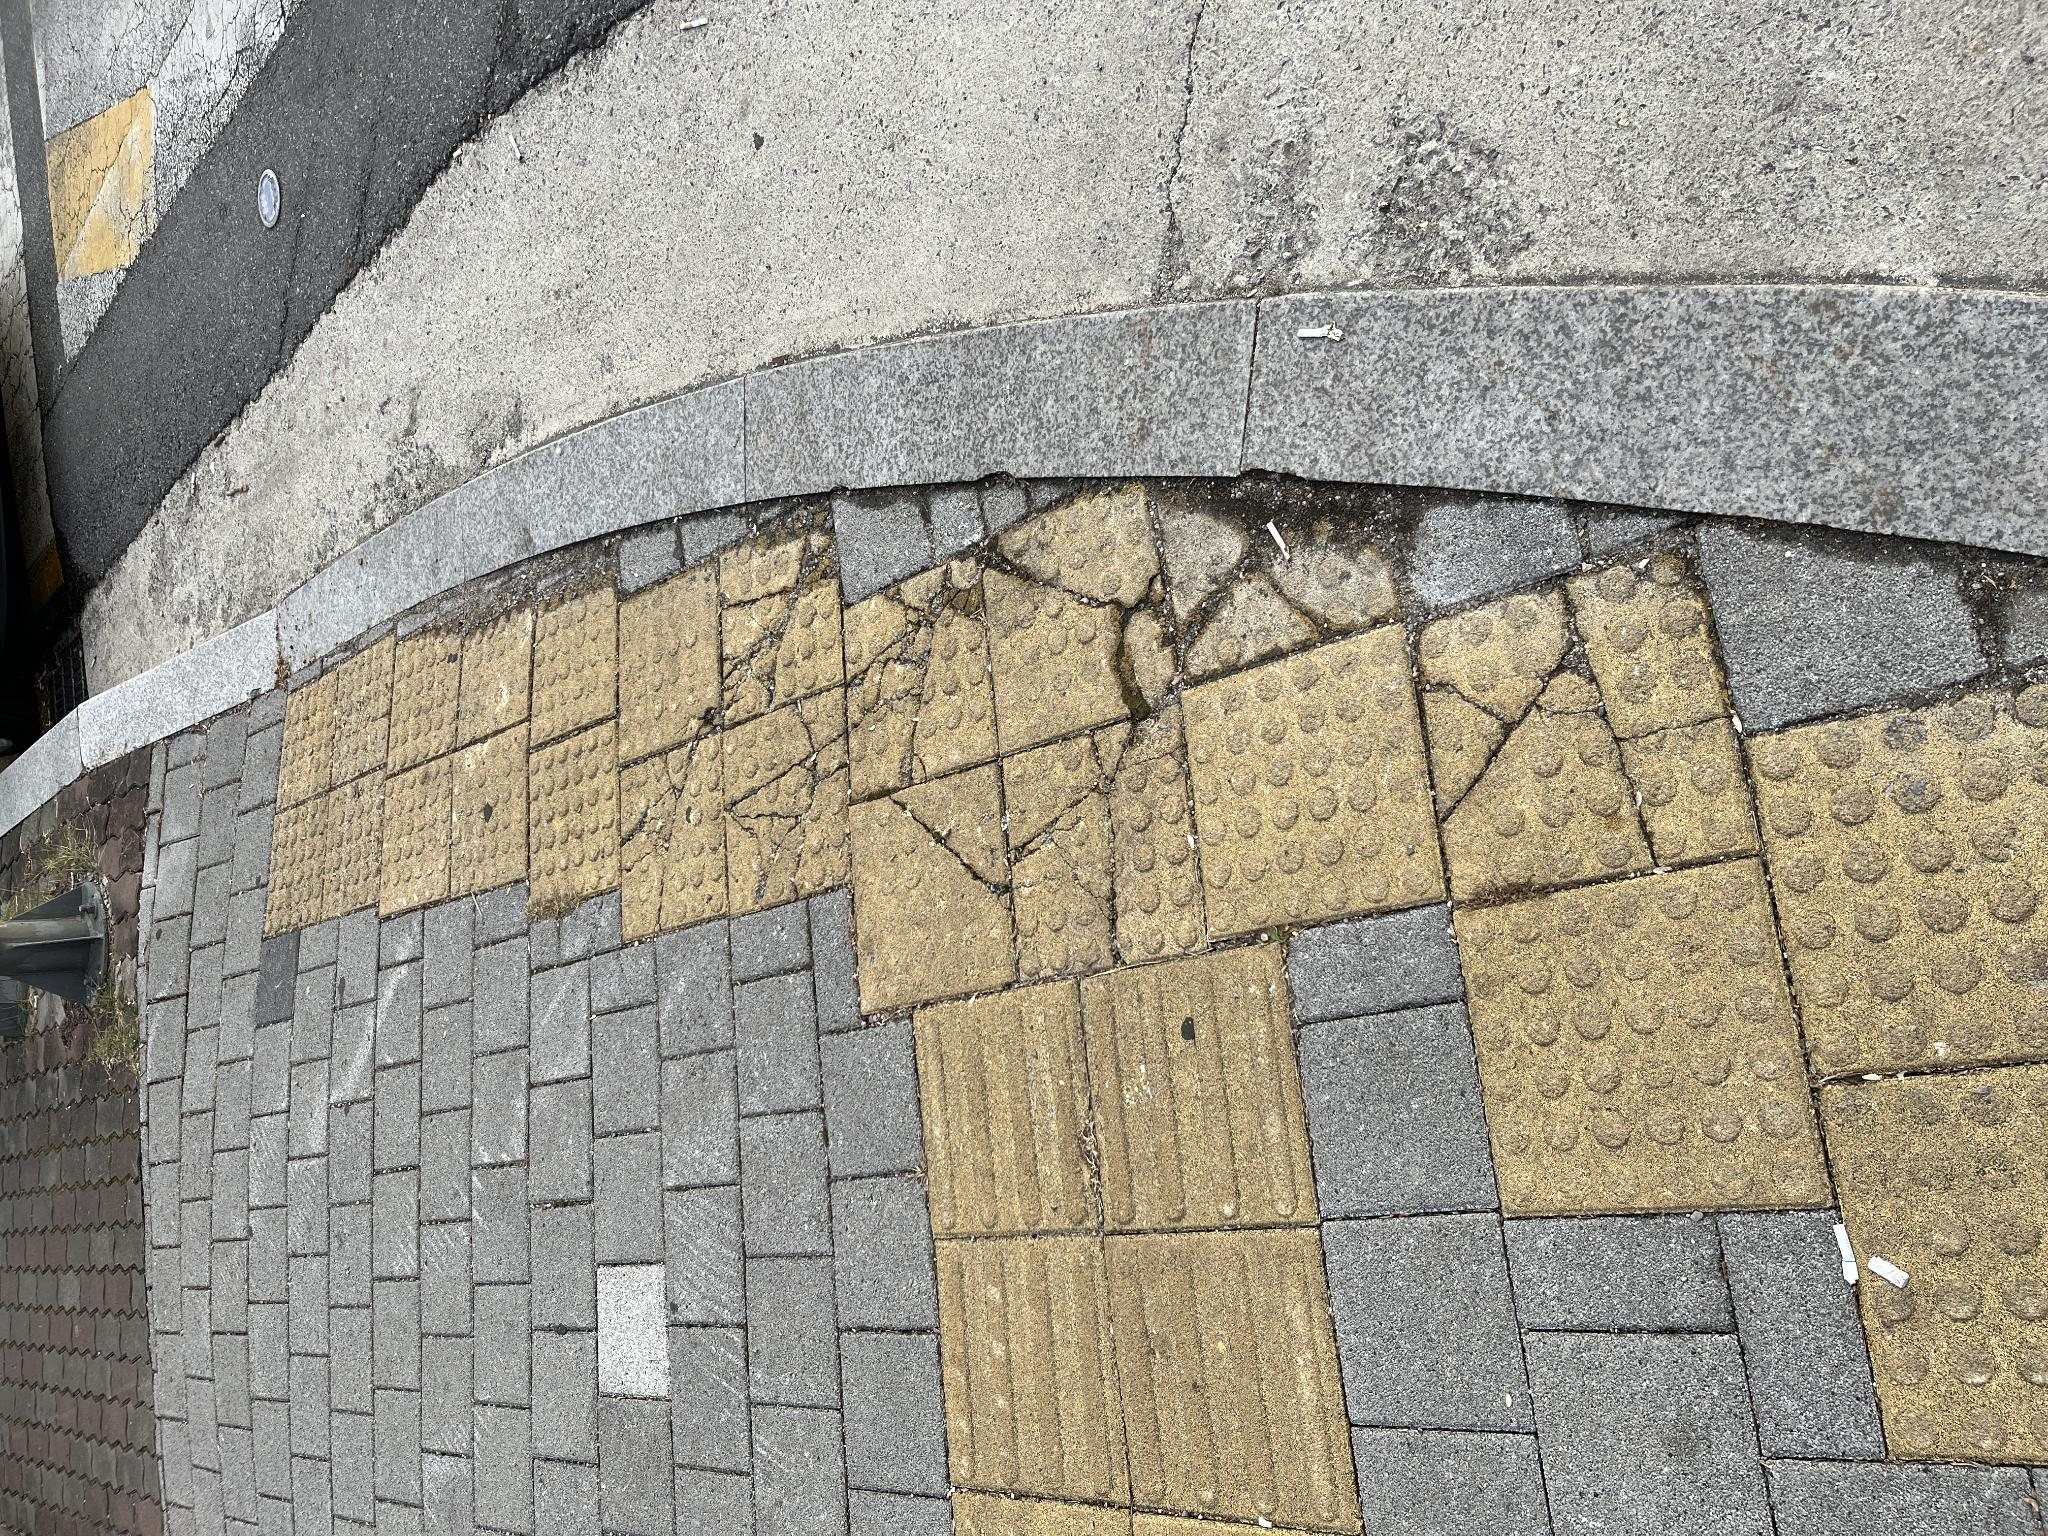Stop block broken: (552, 1002, 830, 1208), (784, 978, 1056, 1176), (524, 850, 772, 1015), (634, 1410, 951, 1536), (737, 847, 985, 995), (621, 724, 848, 850), (810, 718, 1035, 844), (595, 620, 801, 726)
Stop block normal: (597, 1183, 913, 1447), (629, 529, 814, 618)
